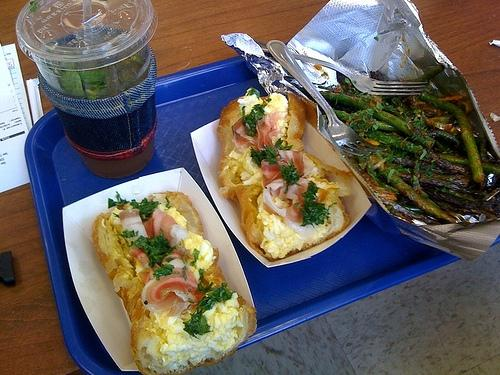asparagus: (356, 147, 459, 225), (319, 92, 436, 148), (420, 93, 485, 182), (364, 130, 468, 174), (394, 170, 489, 197), (438, 154, 500, 176), (432, 200, 496, 221), (419, 185, 481, 202), (420, 161, 470, 182), (428, 130, 462, 150), (412, 159, 428, 199), (413, 64, 445, 82), (383, 104, 406, 120), (432, 140, 456, 155), (431, 199, 464, 208), (333, 110, 352, 123), (344, 77, 356, 94), (434, 114, 456, 123), (424, 112, 437, 118)
